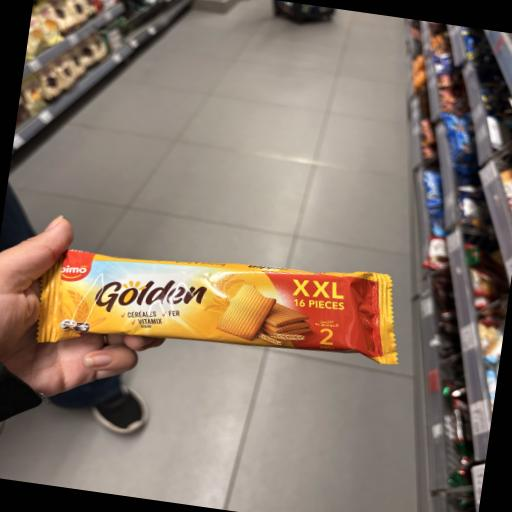golden: (0, 187, 497, 437)
